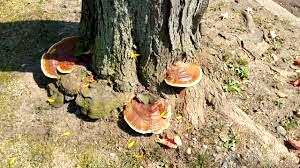Ganoderma - Fruit Body: (40, 34, 90, 79), (124, 97, 172, 137), (164, 58, 204, 87)
